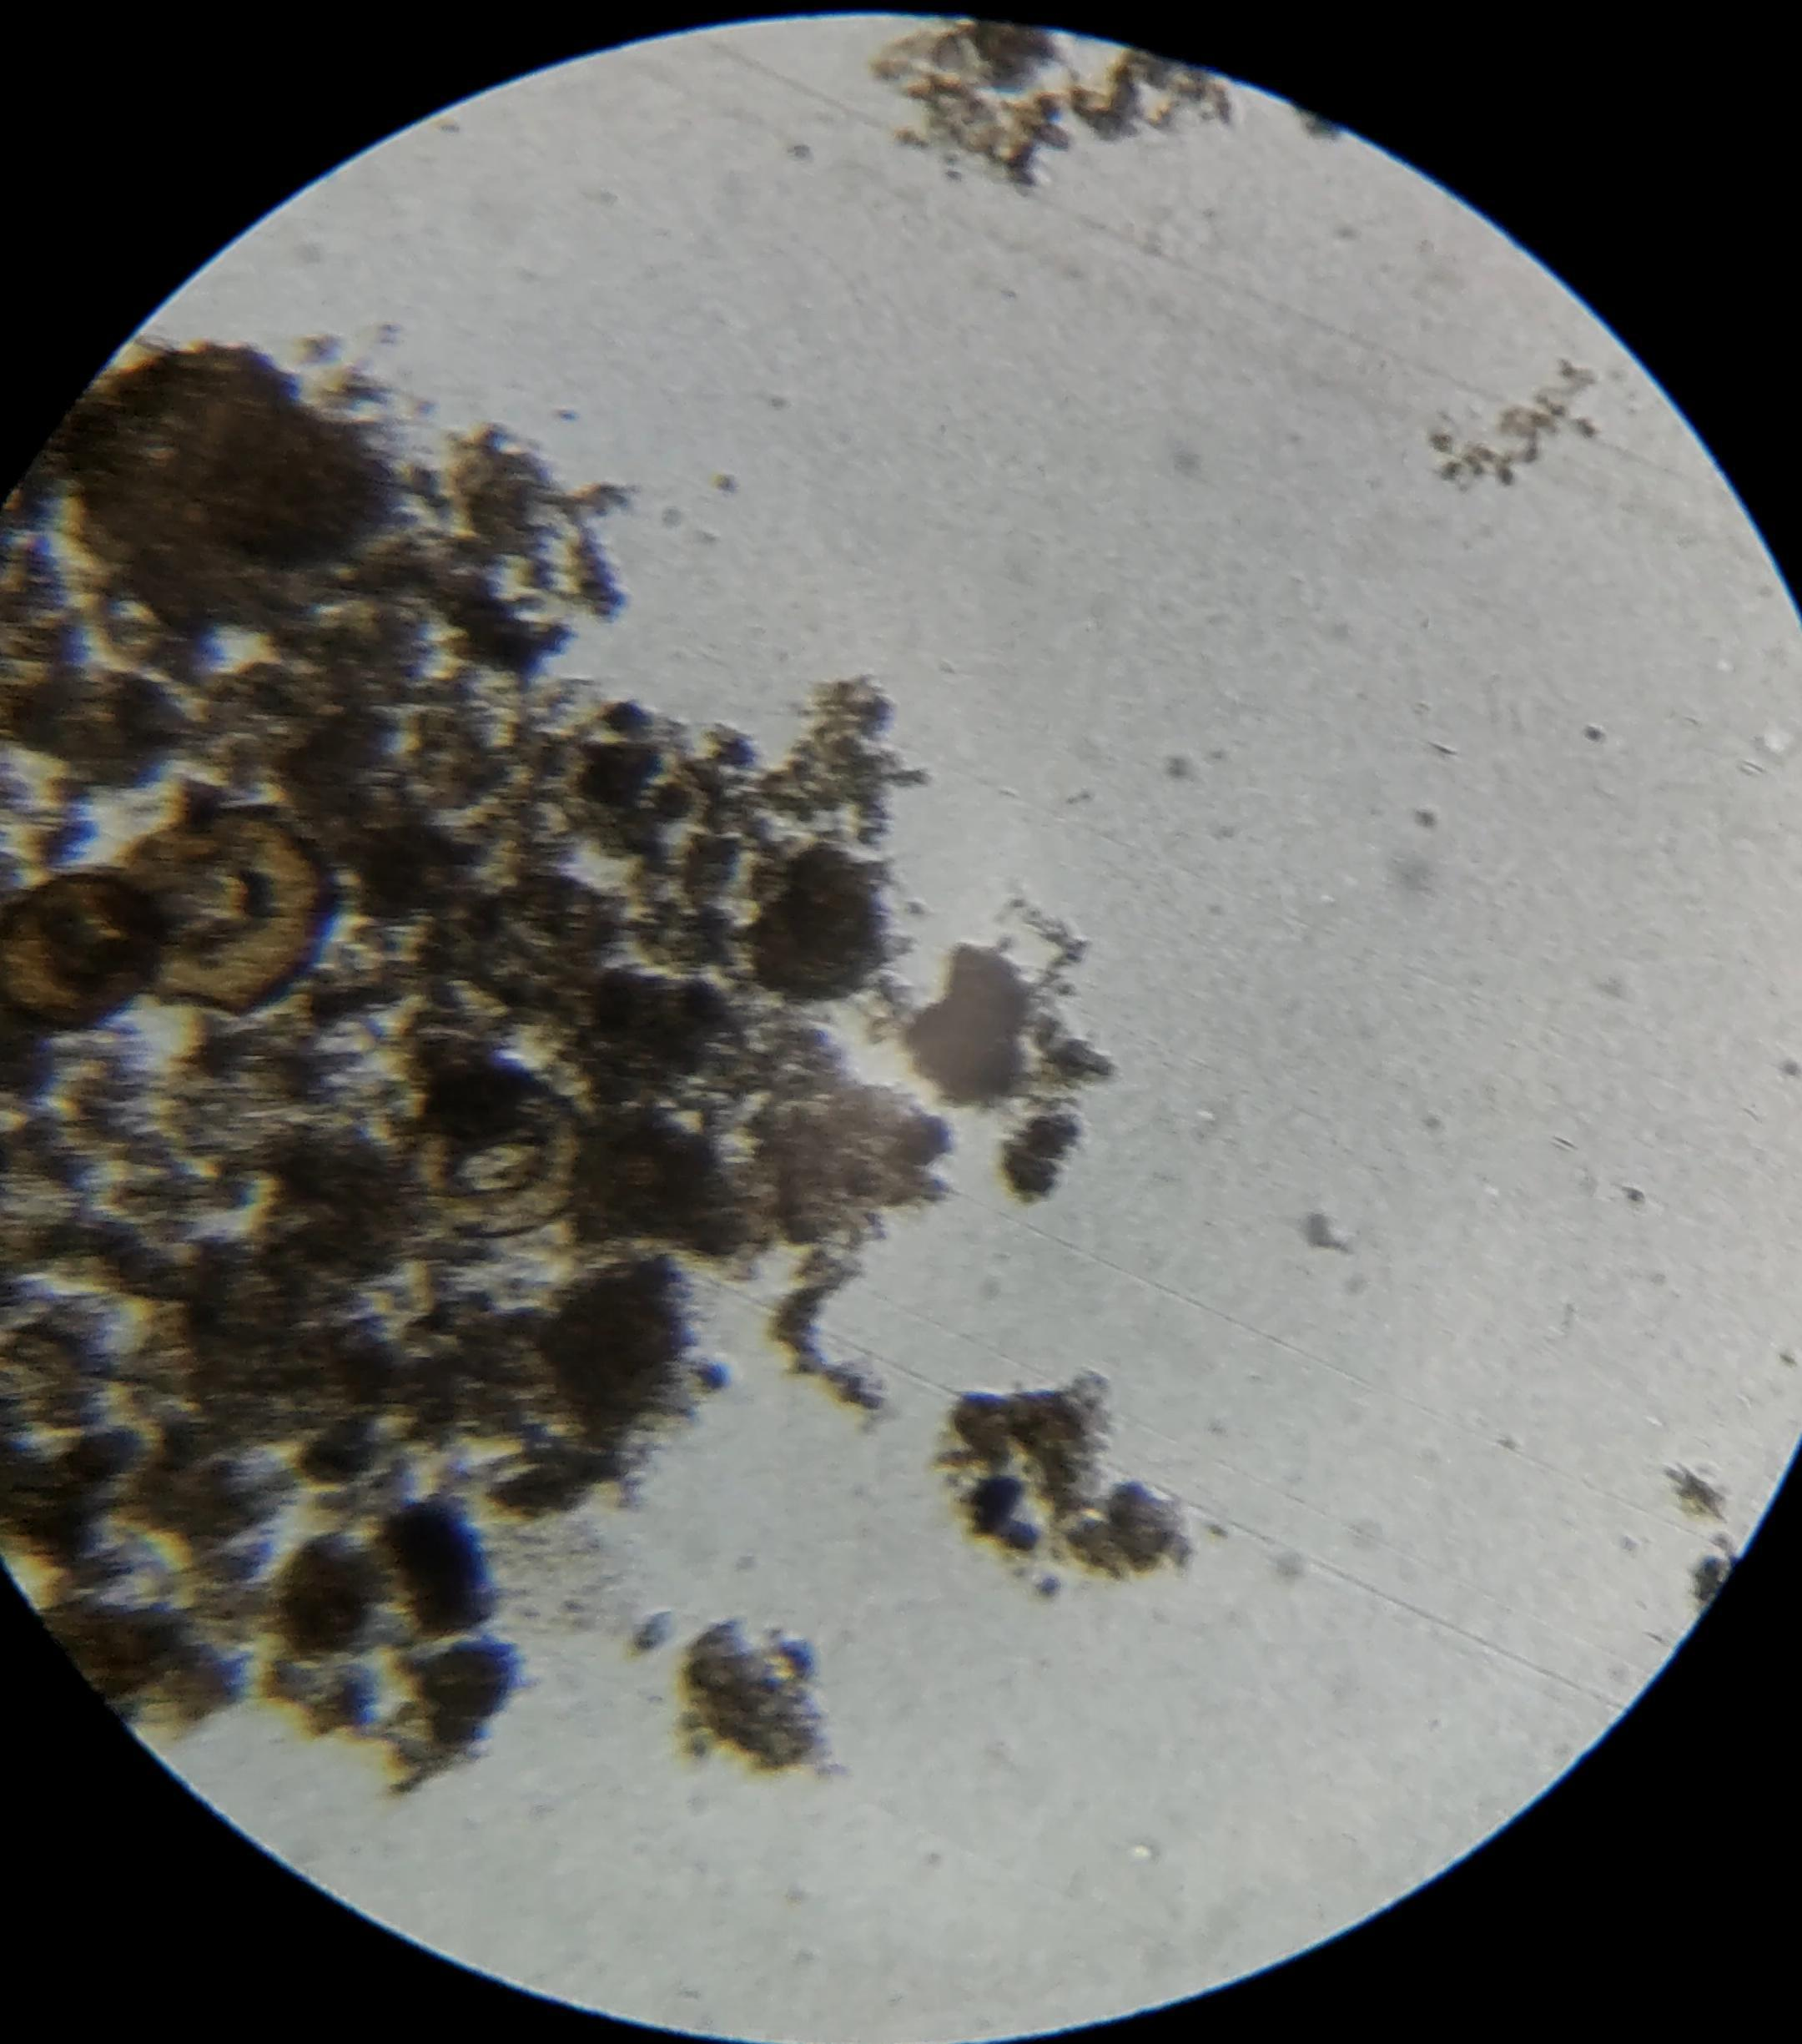Arcella: (134, 812, 327, 1007), (409, 1070, 584, 1240), (2, 877, 153, 1030)
